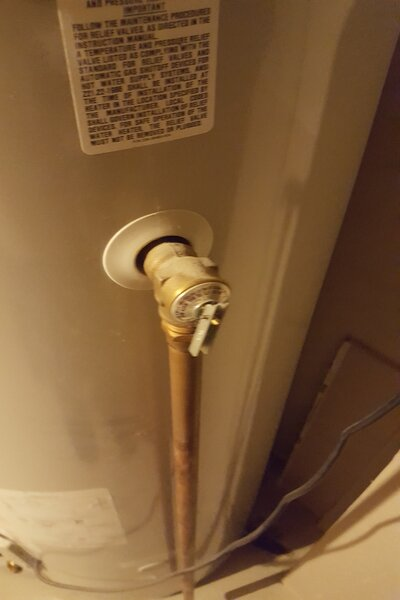valve: (133, 236, 234, 372)
